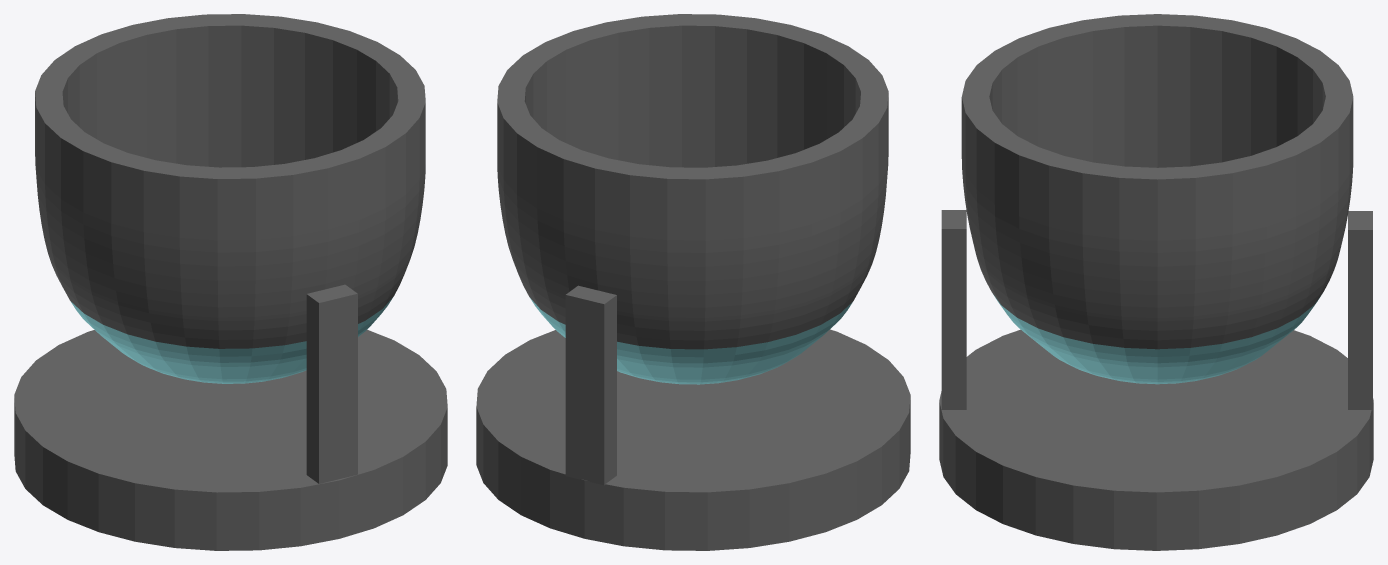
The model's file is Spotligth.fbx.
The picture shows the model from 3 angles, left to right: view 1: azimuth 30°, elevation 25°; view 2: azimuth 150°, elevation 25°; view 3: azimuth 270°, elevation 25°; orthographic projection.
Visible parts, largest first — view 1: Cylinder.001, Cylinder; view 2: Cylinder.001, Cylinder; view 3: Cylinder.001, Cylinder.
Boxes of the visible parts, x1,y1,x2,y2 form: Cylinder.001: (35,14,425,383); Cylinder: (14,284,447,550); Cylinder.001: (497,14,888,384); Cylinder: (476,285,910,550); Cylinder.001: (961,14,1353,384); Cylinder: (939,210,1373,550).
Bounding box in the file's own units: 2.57 × 2.37 × 2.57.
